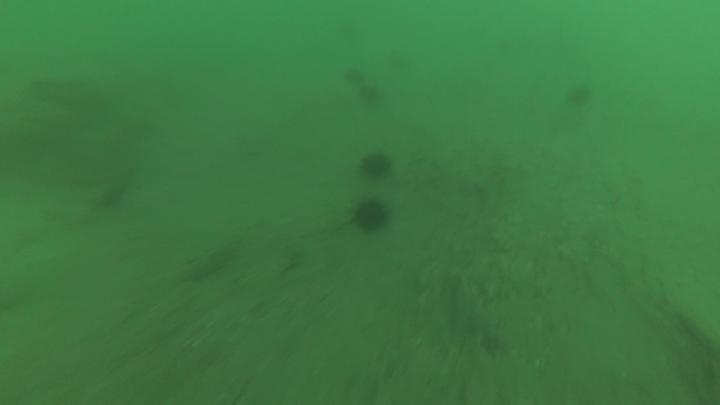echinus: (358, 202, 388, 232), (361, 154, 391, 179)
